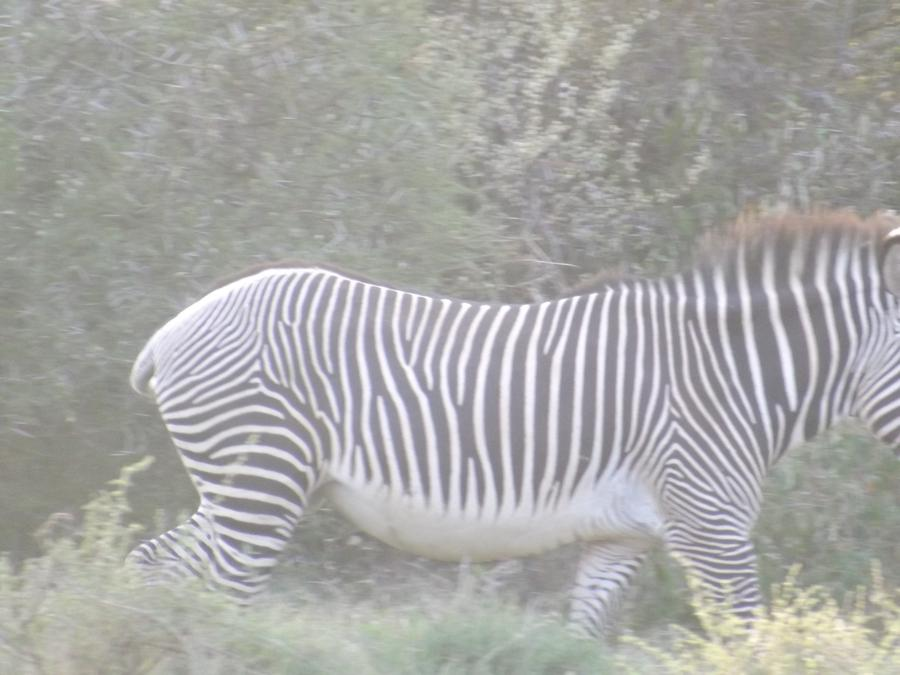zebra_grevys: (130, 242, 767, 536)
